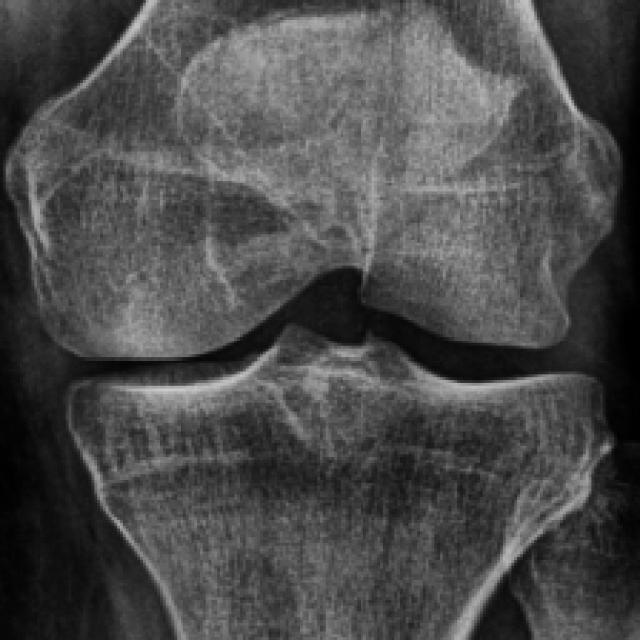femur: (4, 0, 623, 359)
tibia: (68, 326, 617, 640)
